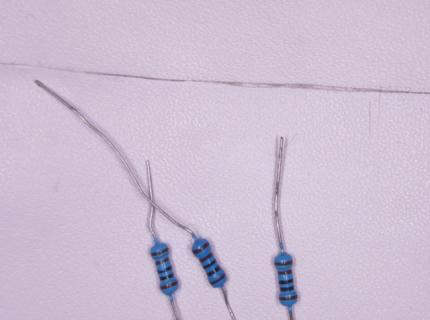Brown band: (199, 252, 214, 263), (155, 257, 170, 266), (277, 269, 292, 275)
